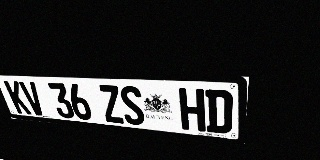3: (47, 82, 76, 119)
6: (65, 83, 93, 121)
D: (205, 89, 233, 134)
H: (178, 88, 205, 132)
K: (3, 81, 32, 114)
S: (118, 85, 146, 126)
V: (18, 81, 47, 116)
Z: (97, 85, 125, 124)
